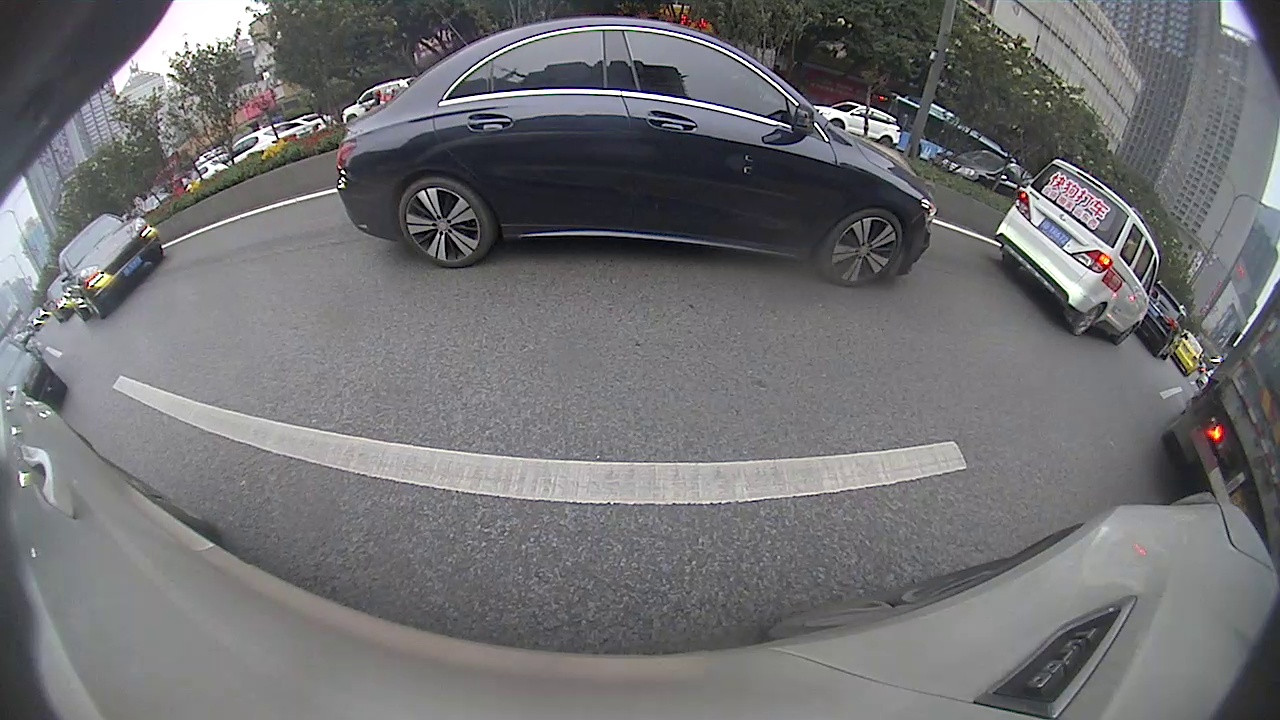car: (1, 283, 213, 478), (690, 126, 859, 227), (453, 153, 548, 212), (592, 137, 657, 193), (536, 152, 583, 187)
front: (96, 335, 185, 439), (689, 174, 702, 200)
rear: (721, 177, 742, 222), (517, 179, 530, 202)
